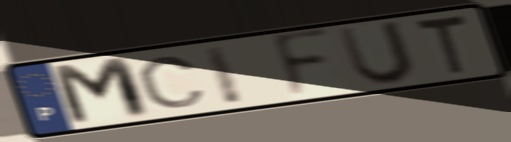C: (135, 55, 210, 110)
F: (268, 25, 334, 103)
I: (200, 42, 248, 108)
M: (46, 54, 156, 129)
T: (411, 12, 471, 78)
U: (333, 18, 420, 88)
